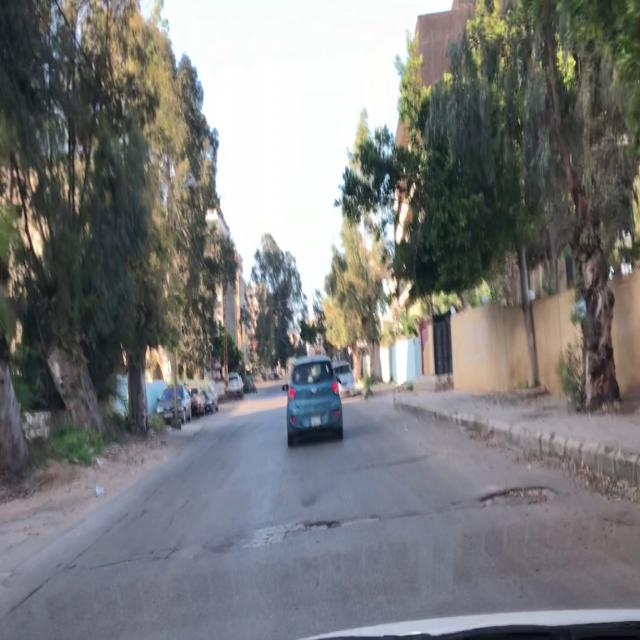Pothole: (473, 478, 564, 510), (301, 514, 344, 539)
